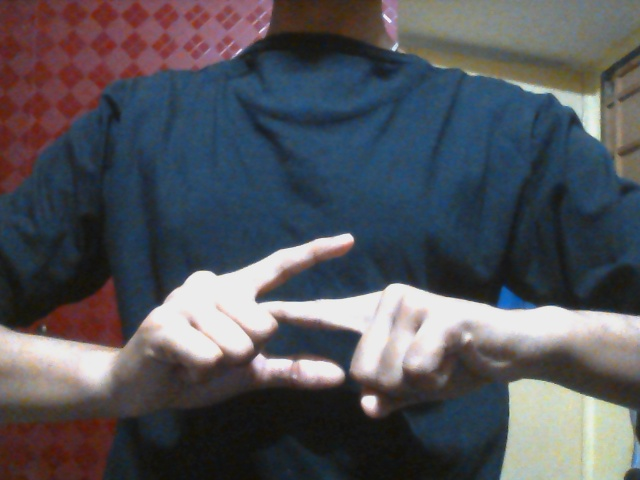E: (127, 231, 494, 422)
